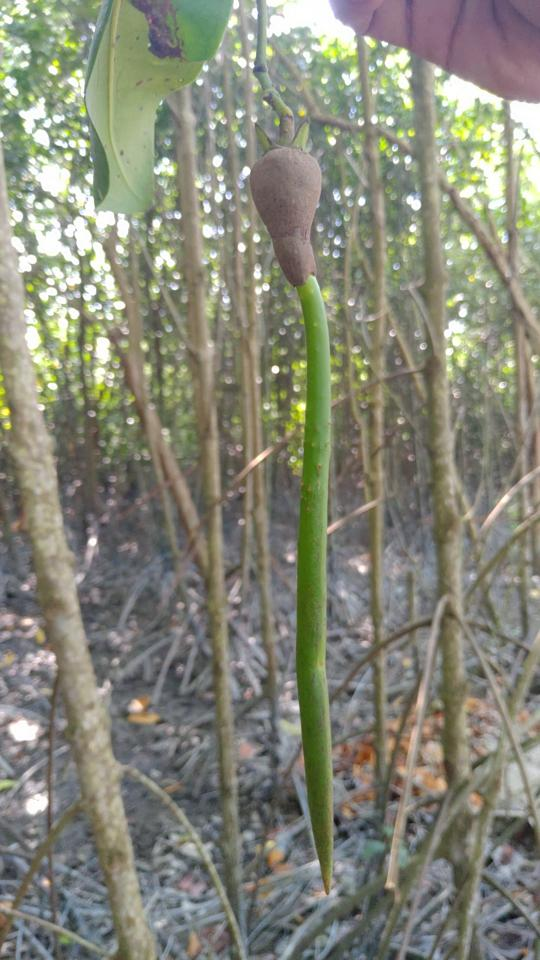mentah: (234, 118, 361, 911)
